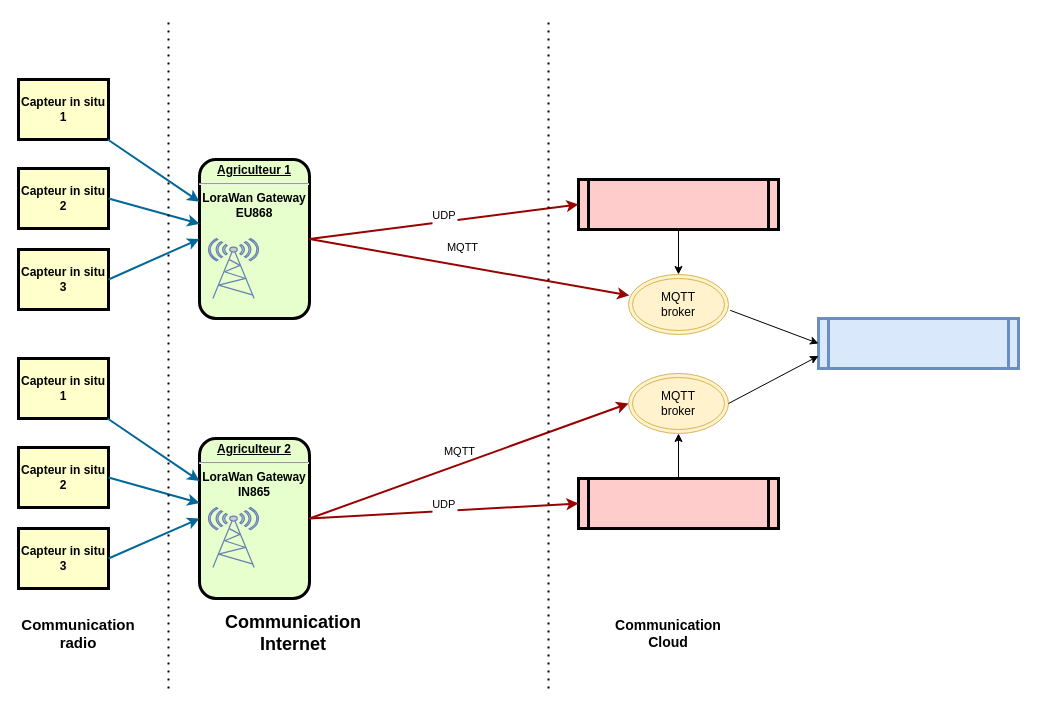
The diagram is 1037 pixels wide and 707 high, and some of its shapes have lost their labels. The shapes that lost their labels are listed below. From the top down, each one's centre as x and y in pixels, then its label:
At point 678,204: "ChirpStack GW Bridge EU 868".
At point 918,343: "Chirpstack network server".
At point 678,503: "ChirpStack GW Bridge IN865".
